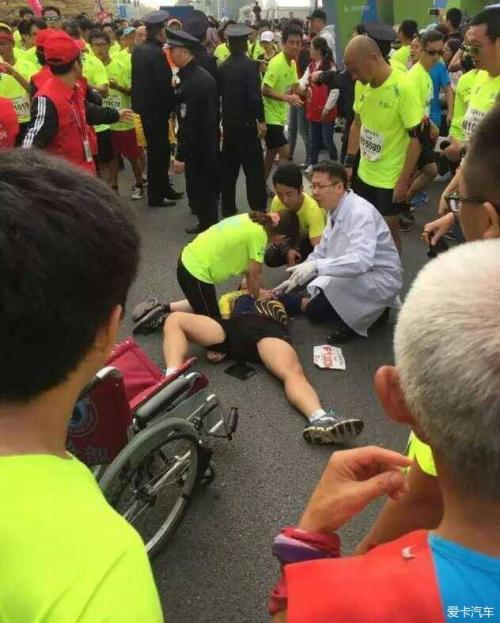10+: (1, 1, 500, 623)
down: (159, 270, 370, 455)
